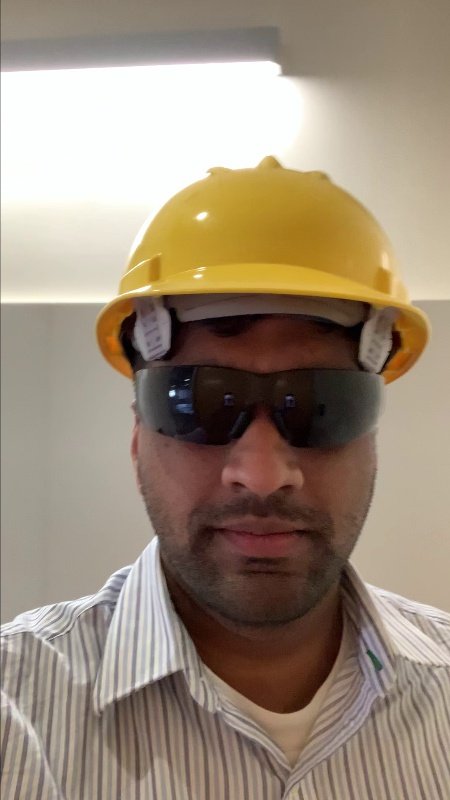glasses: (129, 364, 400, 448)
helmet: (101, 159, 432, 374)
